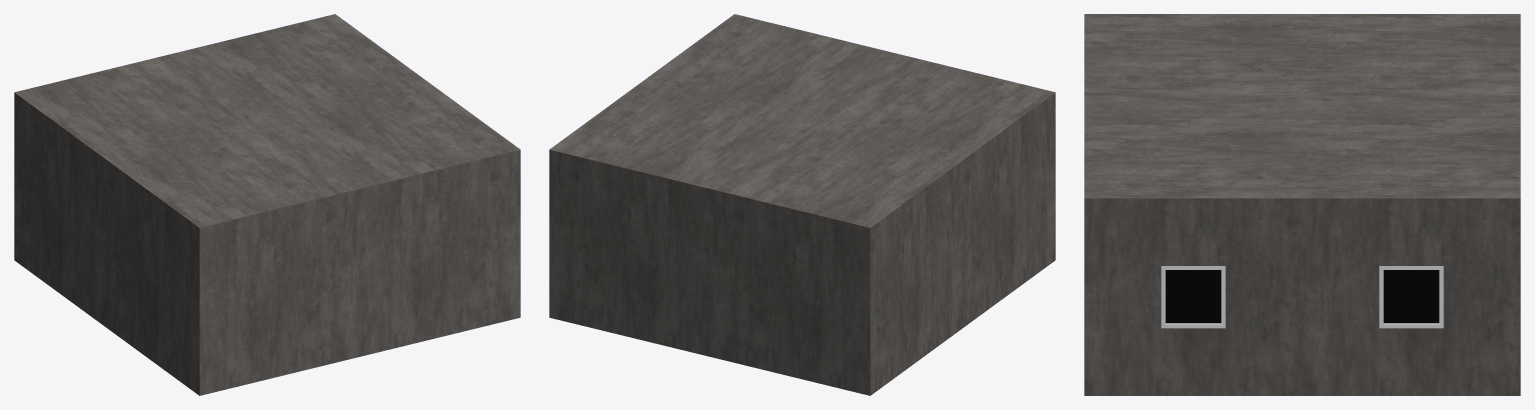
File: Piso.fbx
3 views of the same model, side by side, from view 1: azimuth 30°, elevation 25°; view 2: azimuth 150°, elevation 25°; view 3: azimuth 270°, elevation 25° (orthographic). The views are drawn at different scales.
Visible parts, largest first — view 1: building_002.002; view 2: building_002.002; view 3: building_002.002.
Part boxes in pixels (left/top/right/bottom): building_002.002: left=14, top=14, right=520, bottom=395; building_002.002: left=549, top=14, right=1055, bottom=395; building_002.002: left=1084, top=14, right=1520, bottom=395.
Bounding box in the file's own units: 1000 × 500 × 1000.
Materials: 2 (2 with a texture image).
